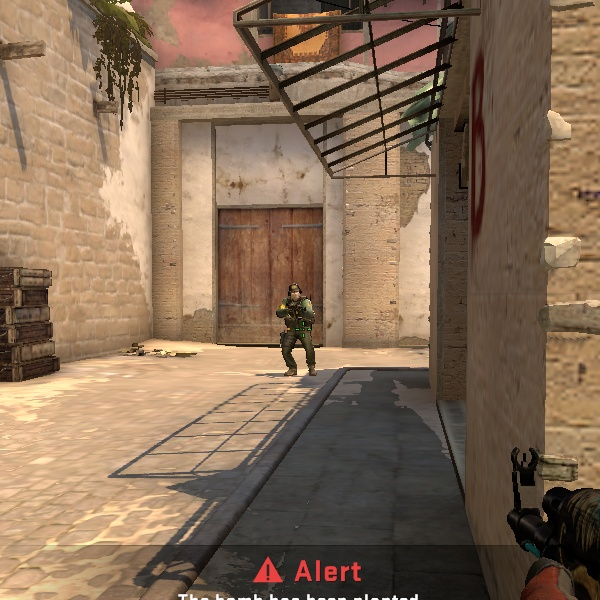ct_body: (266, 281, 324, 379)
ct_head: (284, 282, 306, 303)
